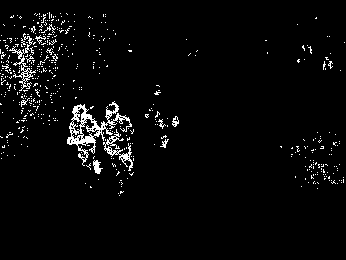person: (101, 101, 133, 194), (67, 104, 100, 175), (146, 84, 180, 150)
